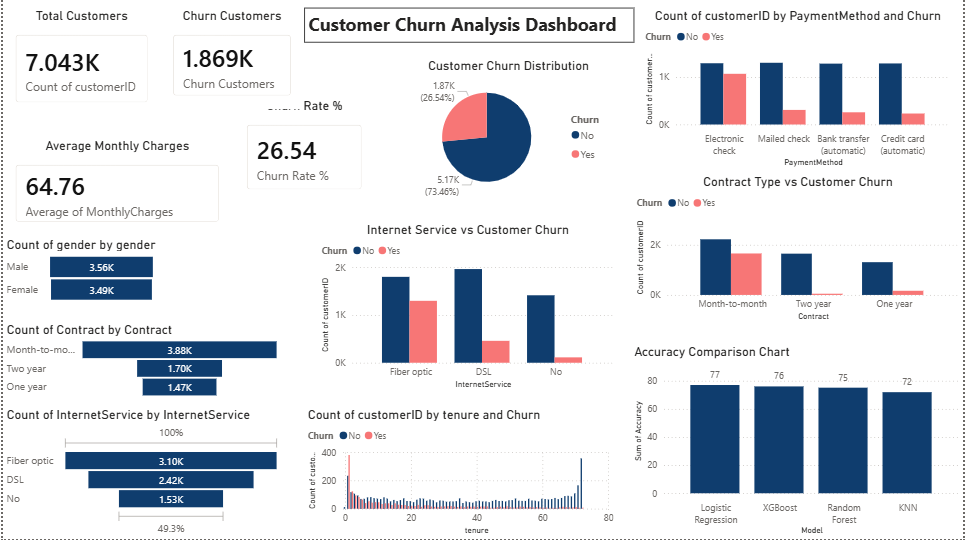

The dashboard page shown, as its layout file describes it:
{"tool":"powerbi","page":{"name":"Page 1","canvas":[1280,720],"ordinal":0},"visuals":[{"type":"pieChart","title":"Customer Churn Distribution","fields":{"Category":["data.Churn"],"Y":["CountNonNull(data.Churn)"]},"box":[528.3,78.3,291.7,193.3],"z":0},{"type":"clusteredColumnChart","title":"Contract Type vs Customer Churn","fields":{"Category":["data.Contract"],"Series":["data.Churn"],"Y":["CountNonNull(data.customerID)"]},"box":[840,232.5,440,201.2],"z":1000},{"type":"clusteredColumnChart","title":"Internet Service vs Customer Churn","fields":{"Category":["data.InternetService"],"Series":["data.Churn"],"Y":["CountNonNull(data.customerID)"]},"box":[420,296.7,400,228.3],"z":2000},{"type":"clusteredColumnChart","fields":{"Category":["data.PaymentMethod"],"Series":["data.Churn"],"Y":["CountNonNull(data.customerID)"]},"box":[851.7,11.7,416.7,216.7],"z":3000},{"type":"cardVisual","title":"Total Customers","fields":{"Data":["CountNonNull(data.customerID)"]},"box":[0,11.2,210,143.8],"z":4000},{"type":"cardVisual","title":"Churn Rate %","fields":{"Data":["data.Churn Rate %"]},"box":[307.5,131.2,187.5,140],"z":5000},{"type":"cardVisual","title":"Average Monthly Charges","fields":{"Data":["Avg(data.MonthlyCharges)"]},"box":[0,185,305,130],"z":6000},{"type":"cardVisual","title":"Churn Customers","fields":{"Data":["data.Churn Customers"]},"box":[210,11.2,191.2,135],"z":7000},{"type":"textbox","box":[401.7,11.7,440,46.7],"z":8000},{"type":"funnel","fields":{"Category":["data.gender"],"Y":["CountNonNull(data.gender)"]},"box":[0,316.2,210,92.5],"z":9000},{"type":"funnel","fields":{"Category":["data.Contract"],"Y":["CountNonNull(data.Contract)"]},"box":[0,430,375,106.2],"z":10000},{"type":"funnel","fields":{"Category":["data.InternetService"],"Y":["CountNonNull(data.InternetService)"]},"box":[0,543.8,375,176.2],"z":11000},{"type":"clusteredColumnChart","fields":{"Category":["data.tenure"],"Y":["CountNonNull(data.customerID)"],"Series":["data.Churn"]},"box":[401.2,543.8,417.5,176.2],"z":12000},{"type":"clusteredColumnChart","title":"Accuracy Comparison Chart","fields":{"Category":["ModelAccuracy.Model"],"Y":["Sum(ModelAccuracy.Accuracy)"]},"box":[836.2,460,443.8,260],"z":13000}]}

Visuals, with their boxes in screenshot pixels (x1, y1, x2, y2), scaled from the page's 1280x720 canvas onto the 965x540 screenshot:
"Customer Churn Distribution" pieChart: Rect(398, 59, 618, 204)
"Contract Type vs Customer Churn" clusteredColumnChart: Rect(633, 174, 964, 325)
"Internet Service vs Customer Churn" clusteredColumnChart: Rect(317, 223, 618, 394)
clusteredColumnChart - data.PaymentMethod x data.Churn: Rect(642, 9, 956, 171)
"Total Customers" cardVisual: Rect(0, 8, 158, 116)
"Churn Rate %" cardVisual: Rect(232, 98, 373, 203)
"Average Monthly Charges" cardVisual: Rect(0, 139, 230, 236)
"Churn Customers" cardVisual: Rect(158, 8, 302, 110)
textbox: Rect(303, 9, 635, 44)
funnel - data.gender x CountNonNull(data.gender): Rect(0, 237, 158, 307)
funnel - data.Contract x CountNonNull(data.Contract): Rect(0, 322, 283, 402)
funnel - data.InternetService x CountNonNull(data.InternetService): Rect(0, 408, 283, 539)
clusteredColumnChart - data.tenure x CountNonNull(data.customerID): Rect(302, 408, 617, 539)
"Accuracy Comparison Chart" clusteredColumnChart: Rect(630, 345, 964, 539)
